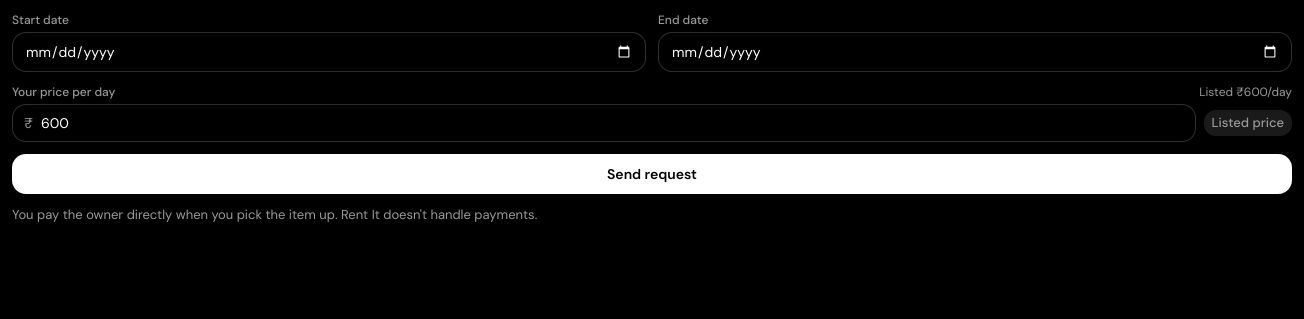
Test case: OfferForm › shows an error thrown by the request inline
The width and height of the screenshot is (1304, 319).
In the date field below "Start date": (329, 52) [12,32,646,72], type "2099-10-12"
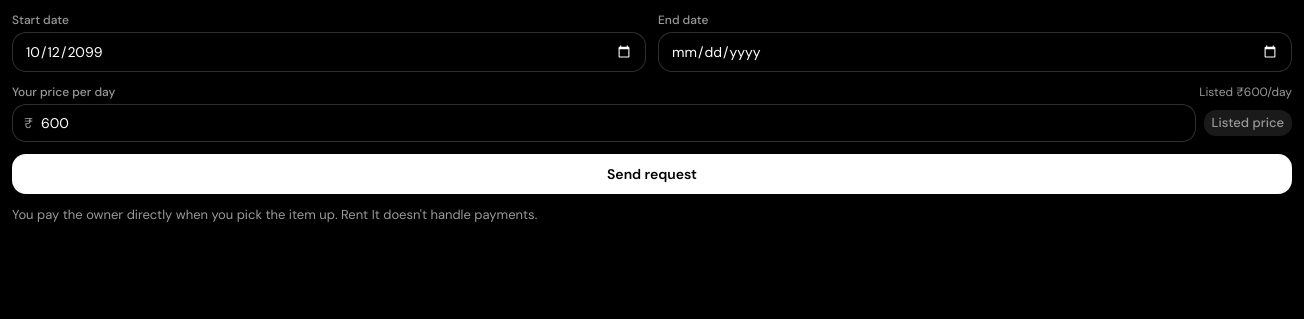
In the date field below "End date": (975, 52) [658,32,1292,72], type "2099-10-15"
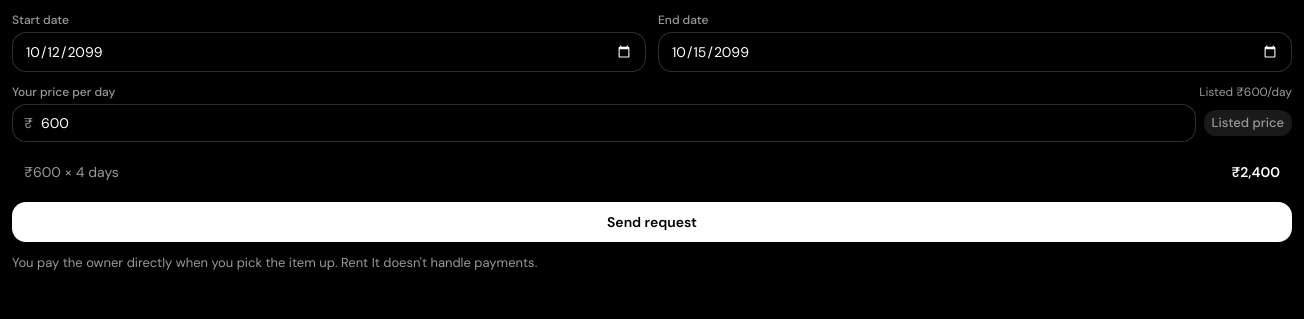
Click the button "Send request": (652, 222) [12,202,1292,242]
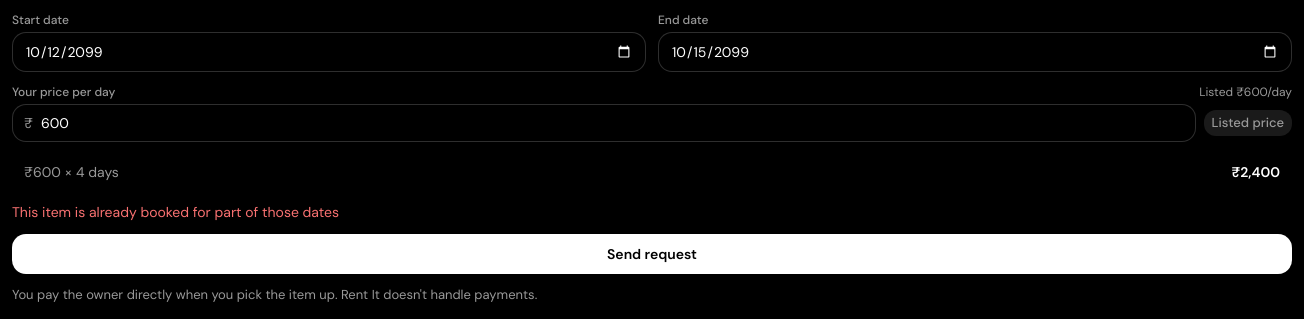
Expected: the text "This item is already booked for part of those dates" is shown, [12,203,339,221]
